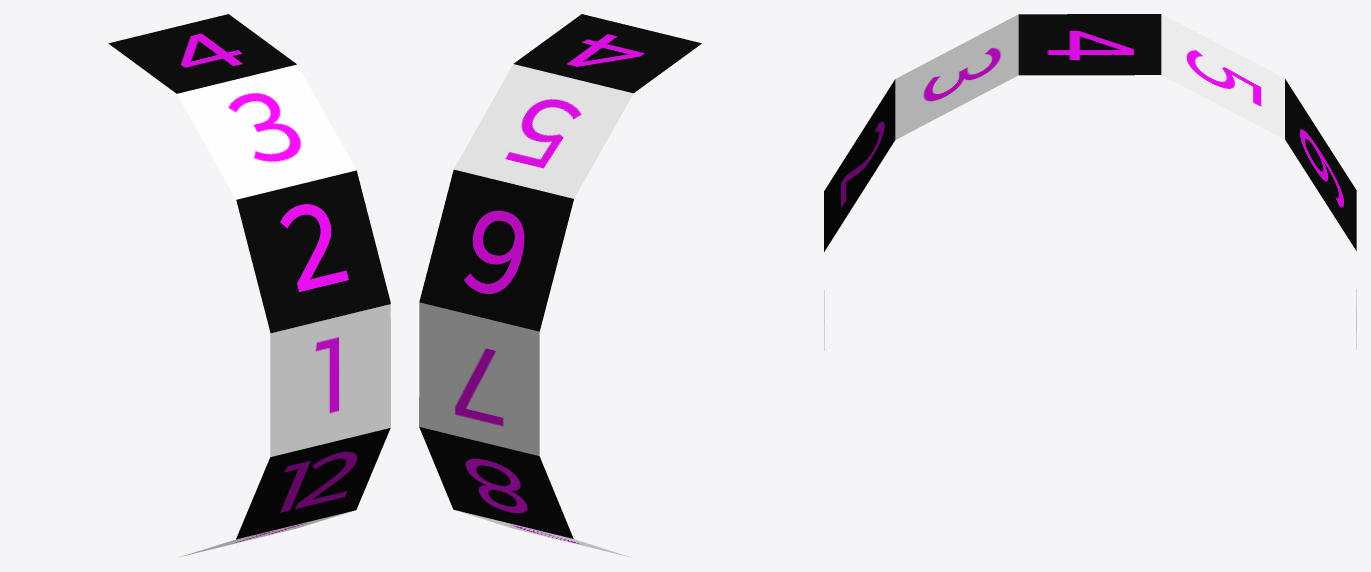
File: reel_separated_faces.glb
3 views of the same model, side by side, from view 1: azimuth 30°, elevation 25°; view 2: azimuth 150°, elevation 25°; view 3: azimuth 270°, elevation 25° (orthographic). The views are drawn at different scales.
Visible parts, largest first — view 1: Reel.002, Reel.001, Reel.003, Reel.012, Reel.004, Reel.011; view 2: Reel.006, Reel.007, Reel.005, Reel.008, Reel.004, Reel.009; view 3: Reel.004, Reel.005, Reel.003, Reel.002, Reel.006.
Boxes of the visible parts, x1=… form: Reel.002: x1=236, y1=170, x2=390, y2=332; Reel.001: x1=270, y1=303, x2=390, y2=456; Reel.003: x1=177, y1=64, x2=356, y2=199; Reel.012: x1=236, y1=428, x2=390, y2=539; Reel.004: x1=108, y1=14, x2=296, y2=93; Reel.011: x1=179, y1=511, x2=352, y2=557; Reel.006: x1=419, y1=169, x2=573, y2=331; Reel.007: x1=419, y1=302, x2=539, y2=455; Reel.005: x1=454, y1=64, x2=633, y2=198; Reel.008: x1=419, y1=427, x2=573, y2=538; Reel.004: x1=513, y1=14, x2=701, y2=93; Reel.009: x1=456, y1=510, x2=631, y2=557; Reel.004: x1=1018, y1=14, x2=1161, y2=75; Reel.005: x1=1161, y1=14, x2=1284, y2=139; Reel.003: x1=895, y1=14, x2=1018, y2=139; Reel.002: x1=824, y1=79, x2=895, y2=251; Reel.006: x1=1285, y1=79, x2=1356, y2=250.
Size of the model in its own units: 0.2714 by 1 by 1.
12 materials, 12 textured.
